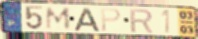1: (160, 9, 171, 35)
5: (24, 5, 45, 31)
A: (73, 7, 102, 32)
M: (45, 6, 73, 30)
P: (100, 8, 122, 33)
R: (129, 7, 155, 34)
